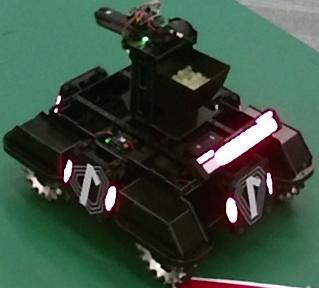armor_1: (64, 159, 117, 211), (226, 174, 273, 224)
light: (197, 110, 278, 173)
